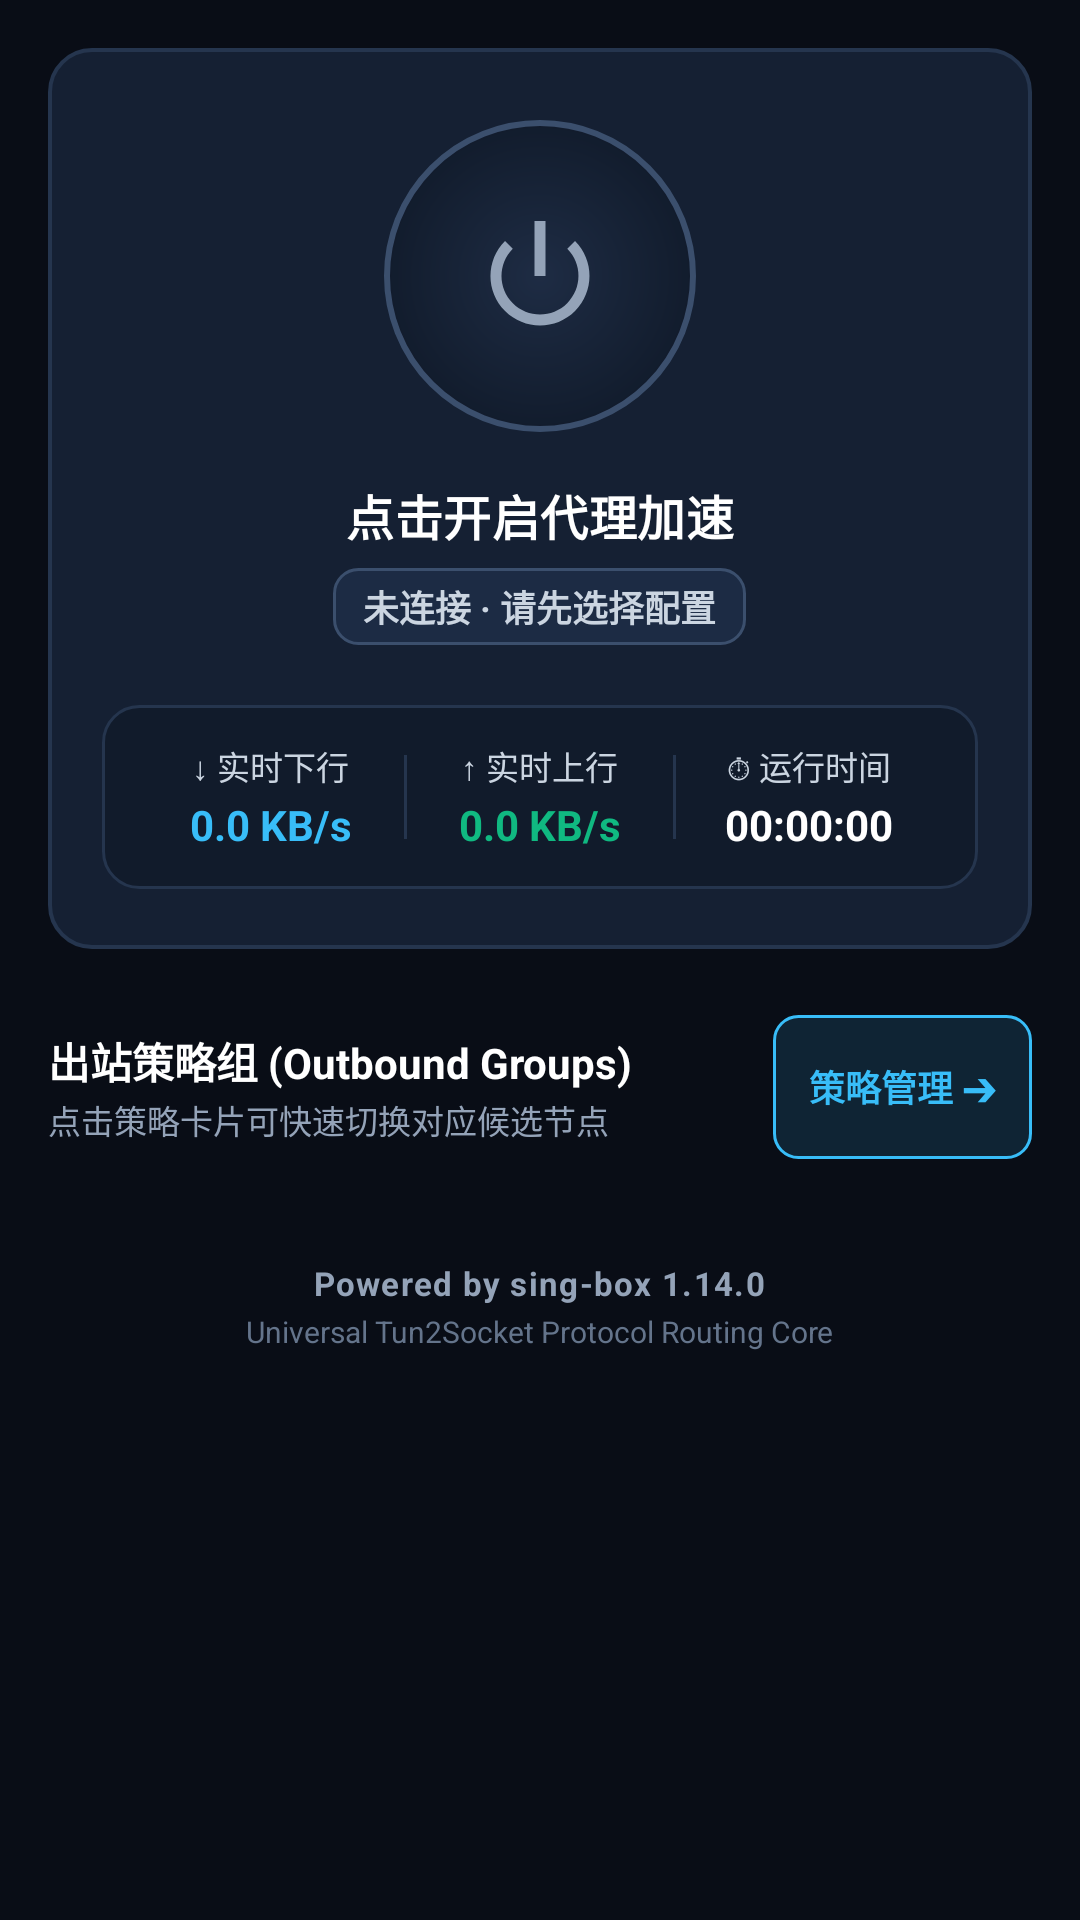

Point at icon controls on the screen. Image size 1080 x 1920, points as (x=x, y=y).
lock power off: (x=540, y=273)
